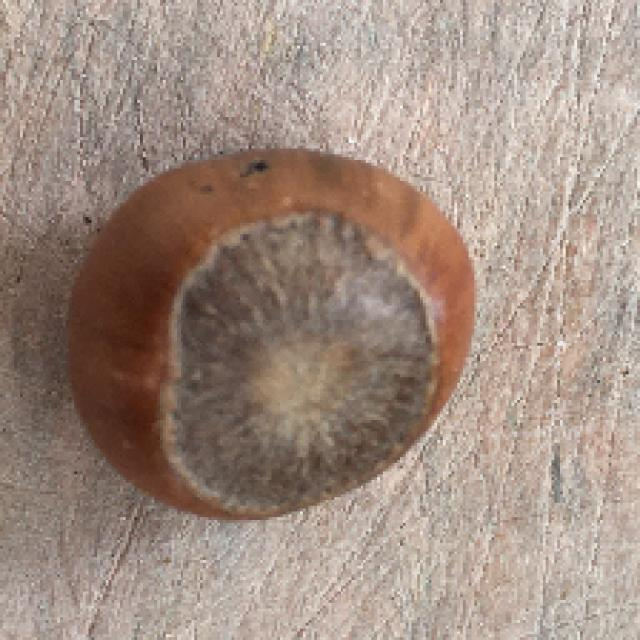damagedHazelnut: (60, 139, 481, 520)
